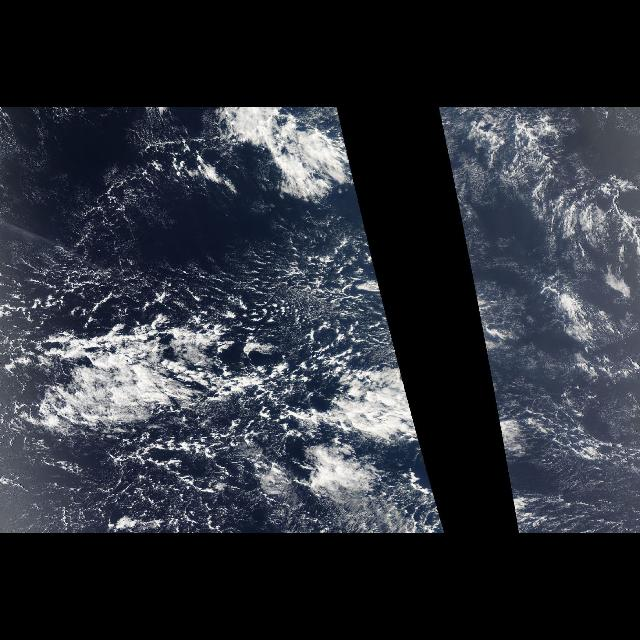Gravel: (2, 109, 446, 531), (437, 109, 635, 531)
Sugar: (436, 112, 630, 472)
